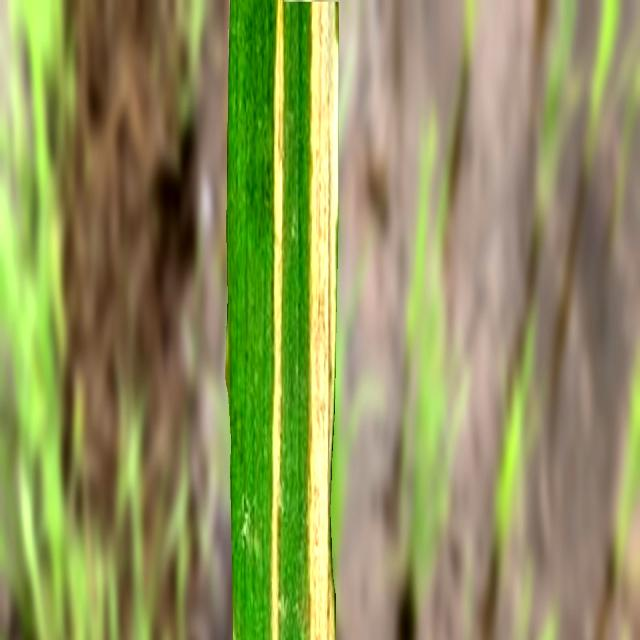BLB: (308, 3, 338, 640), (271, 1, 287, 640)
